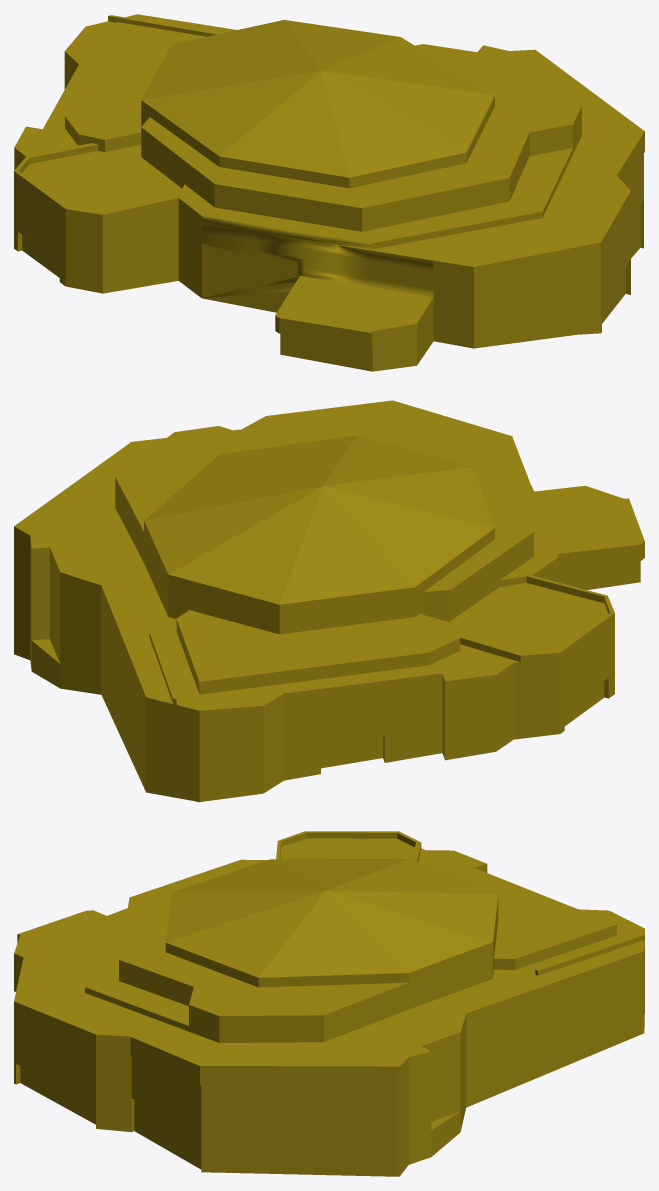
Rendered from Crucible Theatre.fbx.
3 renders of one model, top to bottom at view 1: azimuth 30°, elevation 25°; view 2: azimuth 150°, elevation 25°; view 3: azimuth 270°, elevation 25°, orthographic. The views are drawn at different scales.
Parts seen in each view (by area): view 1: Crucible_Theatre; view 2: Crucible_Theatre; view 3: Crucible_Theatre.
Part boxes in pixels (left/top/right/bottom): Crucible_Theatre: left=14, top=14, right=644, bottom=371; Crucible_Theatre: left=14, top=400, right=644, bottom=802; Crucible_Theatre: left=14, top=831, right=644, bottom=1176.
Size of the model in its own units: 7361 by 2603 by 8546.
